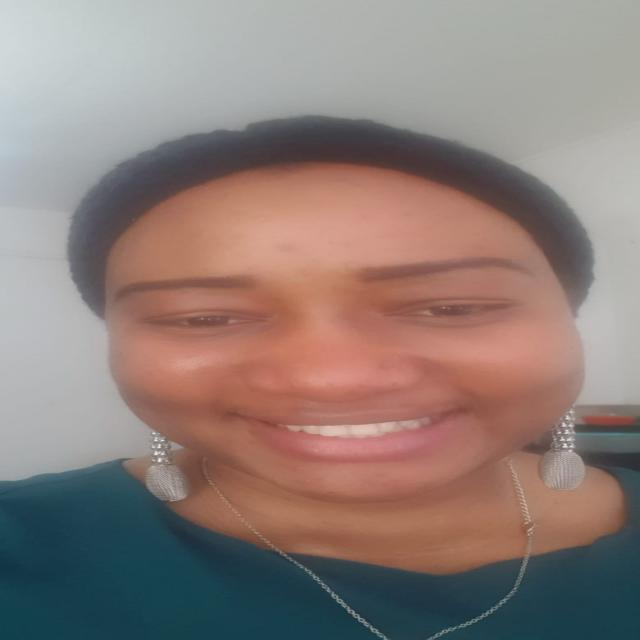happy: (108, 165, 590, 502)
